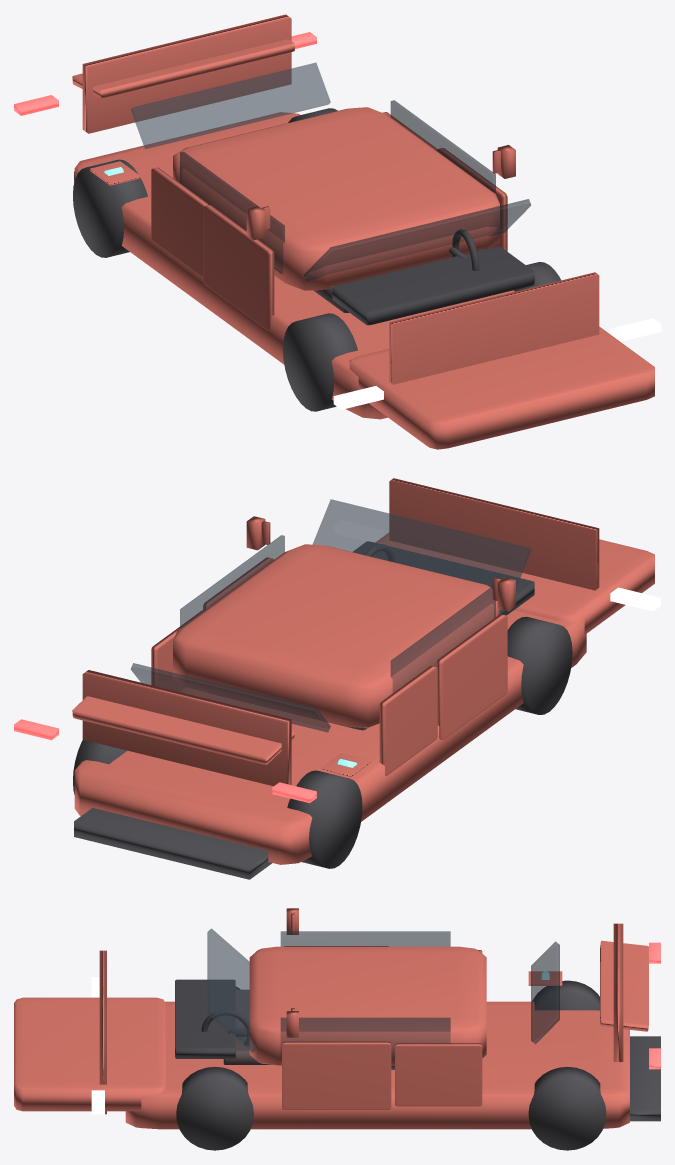
File: sport_sedan.glb
3 renders of one model, top to bottom at view 1: azimuth 30°, elevation 25°; view 2: azimuth 150°, elevation 25°; view 3: azimuth 270°, elevation 25°, orthographic. The views are drawn at different scales.
Parts seen in each view (by area): view 1: cab, nose, frunk, base, trunk, rear_window, dash, door_fl, windshield, wheel_fl, wheel_rl, door_rl (+7 smaller); view 2: cab, base, frunk, trunk, windshield, nose, diffuser, door_fl, spoiler, wheel_fl, wheel_rl, door_rl (+12 smaller); view 3: cab, base, nose, door_fr, door_rr, wheel_rr, wheel_fr, dash, window_glass.001, windshield, spoiler, window_glass (+9 smaller).
Part boxes in pixels (box(x1,y1,x2,y2)): cab: box(173, 107, 499, 290); nose: box(349, 326, 654, 449); frunk: box(389, 272, 599, 384); base: box(74, 112, 514, 419); trunk: box(82, 14, 291, 133); rear_window: box(131, 62, 330, 149); dash: box(332, 246, 534, 325); door_fl: box(203, 204, 274, 330); windshield: box(304, 199, 530, 281); wheel_fl: box(283, 313, 357, 411); wheel_rl: box(73, 159, 147, 257); door_rl: box(151, 167, 208, 277); cab: box(173, 544, 499, 727); base: box(74, 610, 586, 864); frunk: box(389, 478, 599, 590); trunk: box(82, 670, 291, 786); windshield: box(313, 499, 531, 614); nose: box(376, 533, 654, 634); diffuser: box(74, 807, 272, 879); door_fl: box(436, 614, 507, 739); spoiler: box(72, 696, 294, 764); wheel_fl: box(507, 616, 572, 714); wheel_rl: box(287, 770, 362, 868); door_rl: box(379, 666, 437, 775); cab: box(249, 946, 486, 1065); base: box(125, 1001, 629, 1129); nose: box(14, 997, 165, 1111); door_fr: box(282, 1041, 391, 1109); door_rr: box(395, 1043, 482, 1106); wheel_rr: box(528, 1066, 606, 1150); wheel_fr: box(176, 1066, 253, 1150); dash: box(175, 979, 235, 1058); window_glass.001: box(280, 1017, 450, 1058); windshield: box(207, 928, 256, 1052); spoiler: box(600, 940, 648, 1031); window_glass: box(280, 931, 450, 946).
Bounding box in the file's own units: 2.55 × 1.26 × 5.33.
